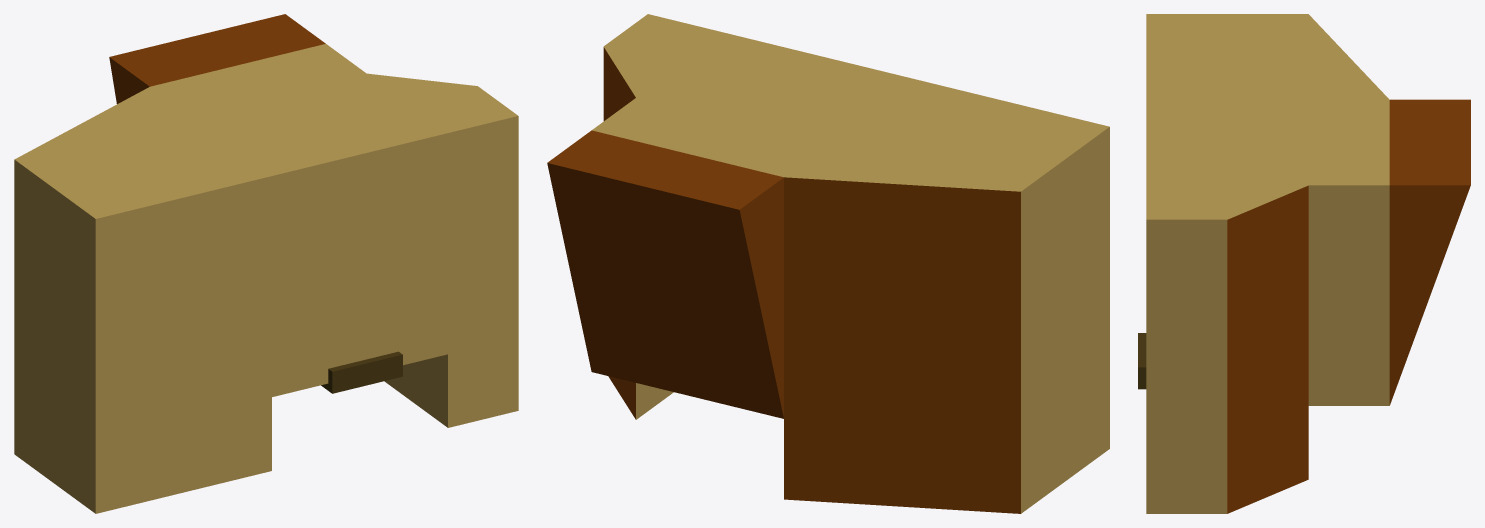
The model's file is TownCenter.fbx.
3 views of the same model, side by side, from view 1: azimuth 30°, elevation 25°; view 2: azimuth 150°, elevation 25°; view 3: azimuth 270°, elevation 25° (orthographic). The views are drawn at different scales.
Parts seen in each view (by area): view 1: Cube; view 2: Cube; view 3: Cube.
Boxes of the visible parts, x1,y1,x2,y2 form: Cube: (14, 14, 518, 513); Cube: (547, 14, 1109, 513); Cube: (1138, 14, 1470, 513).
Bounding box in the file's own units: 6 × 4 × 4.1.
